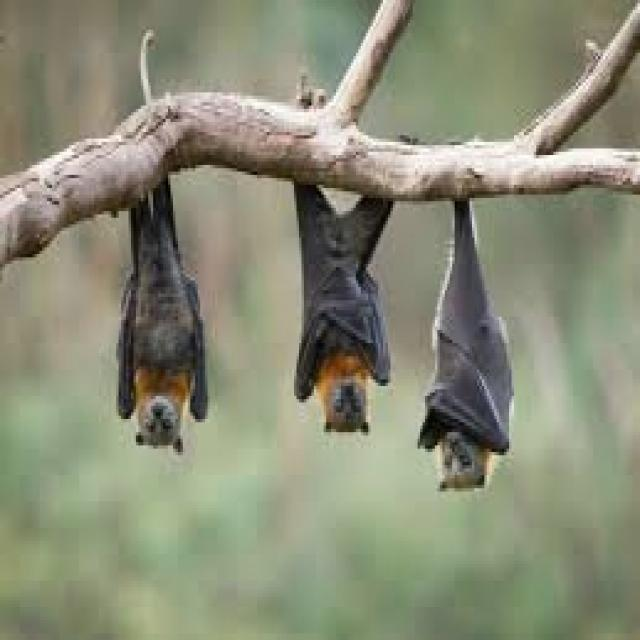bat: (418, 201, 512, 488), (116, 178, 205, 452), (294, 185, 390, 429)
